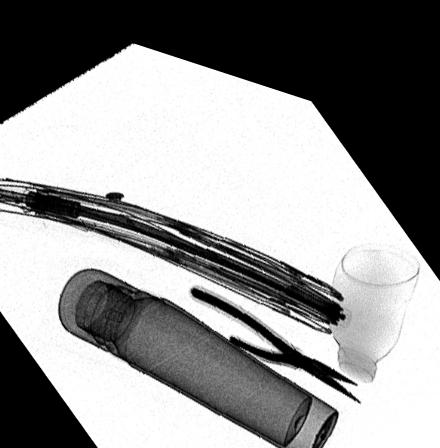Pliers: (188, 275, 363, 379)
